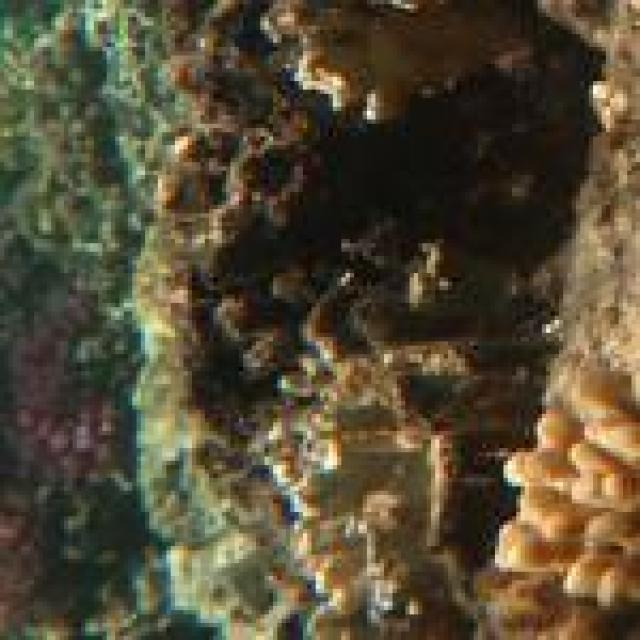Dead Coral: (163, 89, 573, 387)
Healthy Coral: (493, 357, 640, 627)
